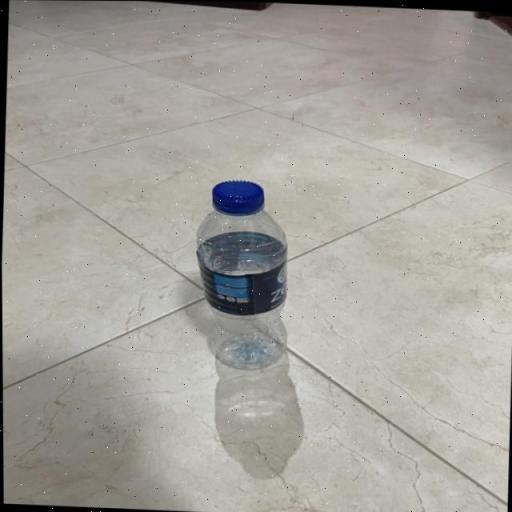plastic: (184, 173, 298, 374)
